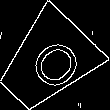O_SW: (13, 29, 80, 96)
